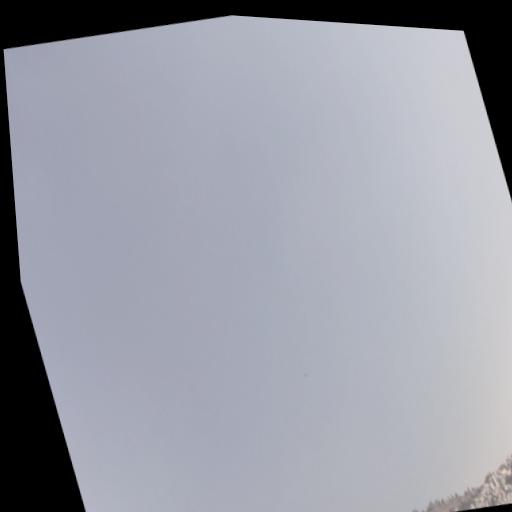drones: (300, 369, 309, 379)
